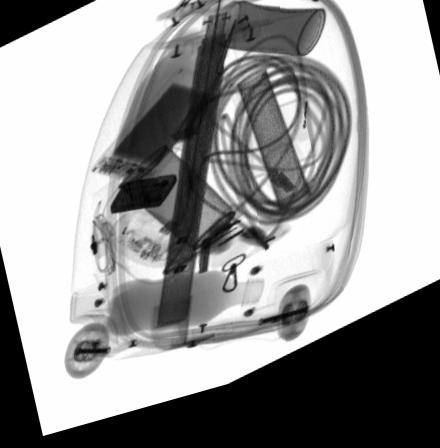Lighter: (109, 183, 178, 219)
Powerbank: (87, 75, 237, 192)
Sprayer: (117, 152, 256, 280)
